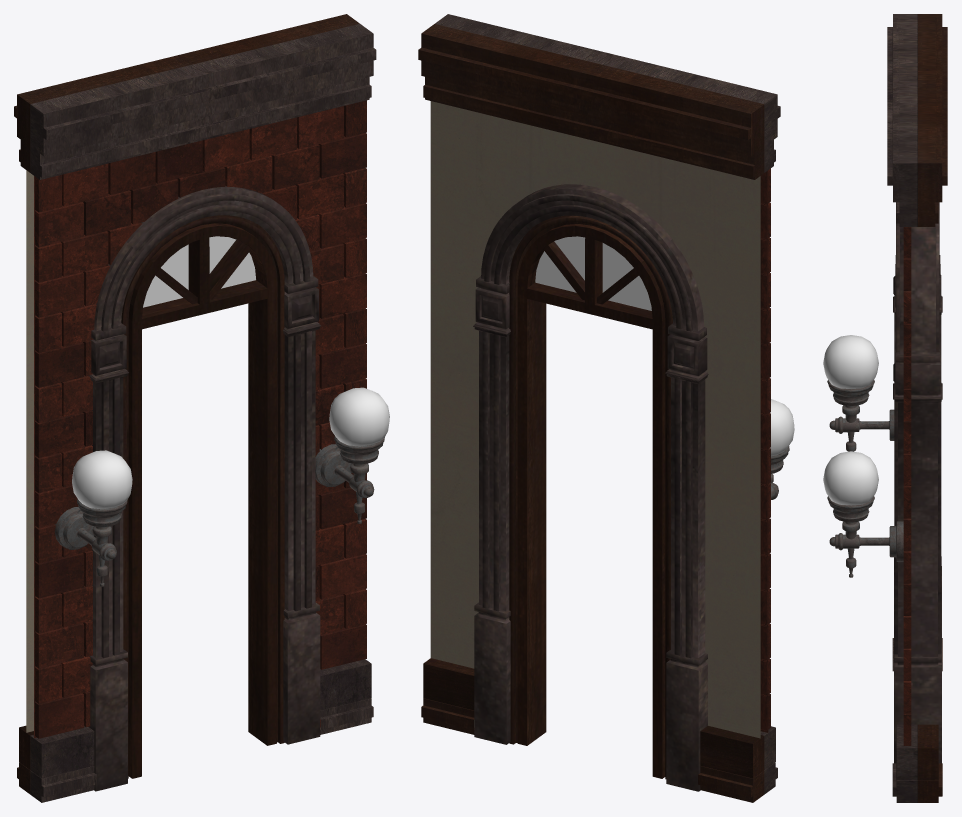
File: SK3 DOOR1.fbx
The picture shows the model from 3 angles, left to right: view 1: azimuth 30°, elevation 25°; view 2: azimuth 150°, elevation 25°; view 3: azimuth 270°, elevation 25°; orthographic projection. The views are drawn at different scales.
Parts seen in each view (by area): view 1: SK3 DOOR1; view 2: SK3 DOOR1; view 3: SK3 DOOR1.
Part boxes in pixels (left/top/right/bottom): SK3 DOOR1: left=14, top=14, right=389, bottom=802; SK3 DOOR1: left=418, top=14, right=794, bottom=802; SK3 DOOR1: left=823, top=14, right=947, bottom=802.
Size of the model in its own units: 200 by 401 by 70.61.
